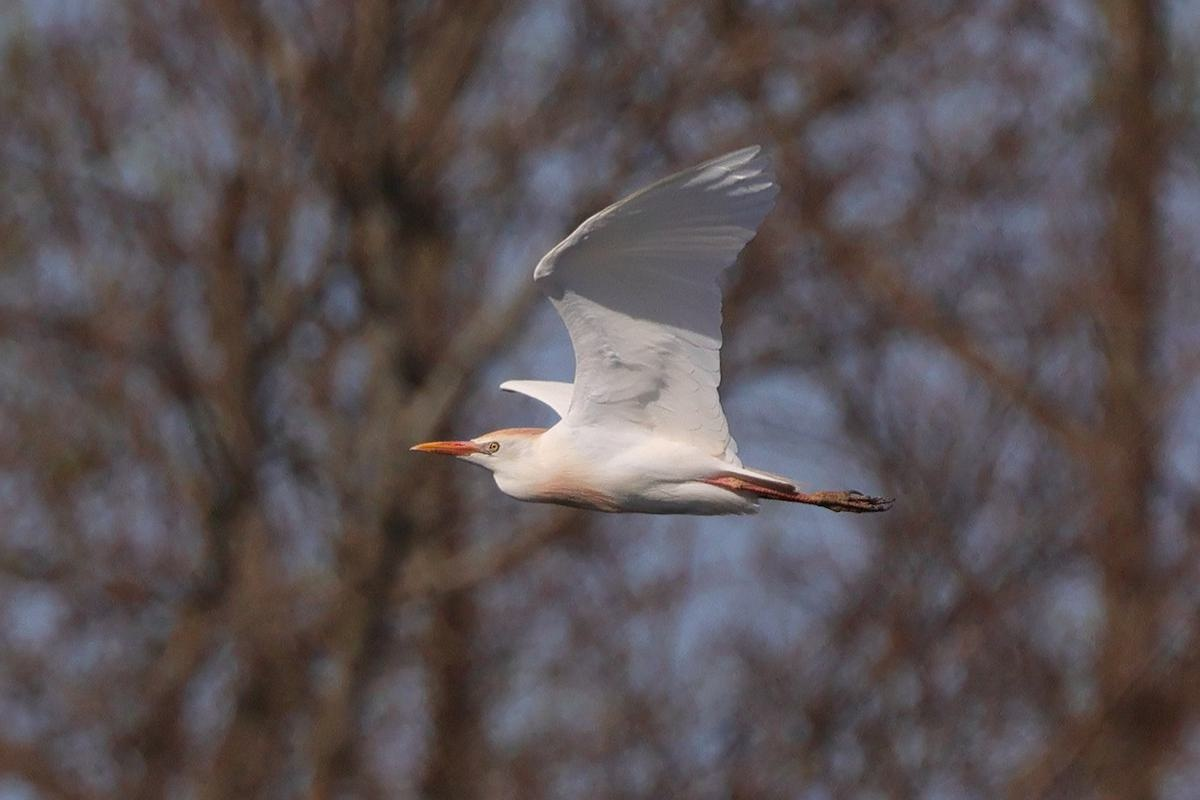egret: (396, 113, 896, 526)
